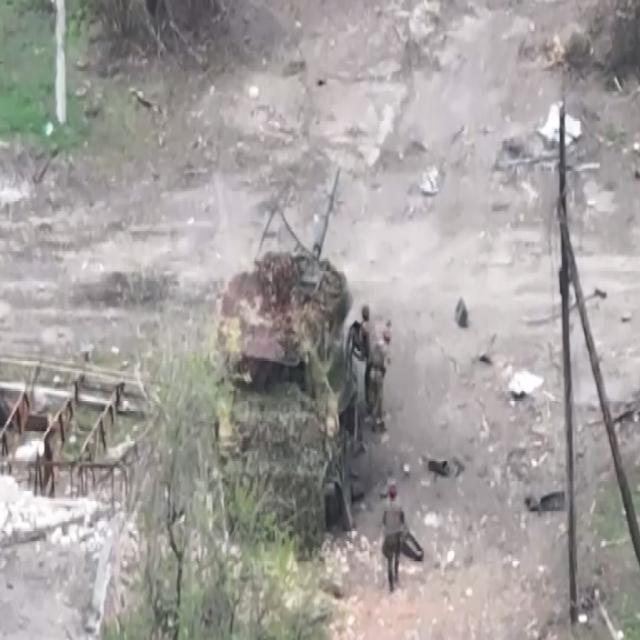TANK: (202, 160, 361, 541)
